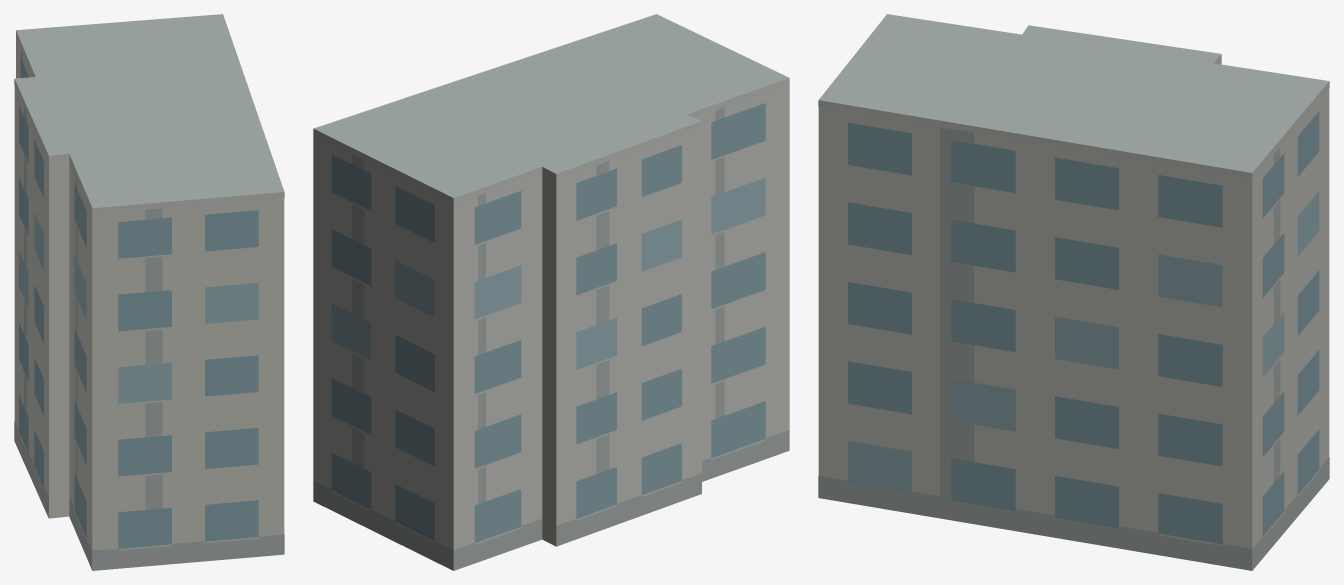
The model's file is survey-upis-32888331.glb.
3 views of the same model, side by side, from view 1: azimuth 30°, elevation 25°; view 2: azimuth 150°, elevation 25°; view 3: azimuth 270°, elevation 25° (orthographic). The views are drawn at different scales.
Visible parts, largest first — view 1: survey-upis-32888331.tmp; view 2: survey-upis-32888331.tmp; view 3: survey-upis-32888331.tmp.
Boxes of the visible parts, box(x1,y1,x2,y2) form: survey-upis-32888331.tmp: box(14, 14, 284, 570); survey-upis-32888331.tmp: box(313, 14, 789, 570); survey-upis-32888331.tmp: box(818, 14, 1329, 570).
Bounding box in the file's own units: 12.35 × 14.4 × 16.77.
